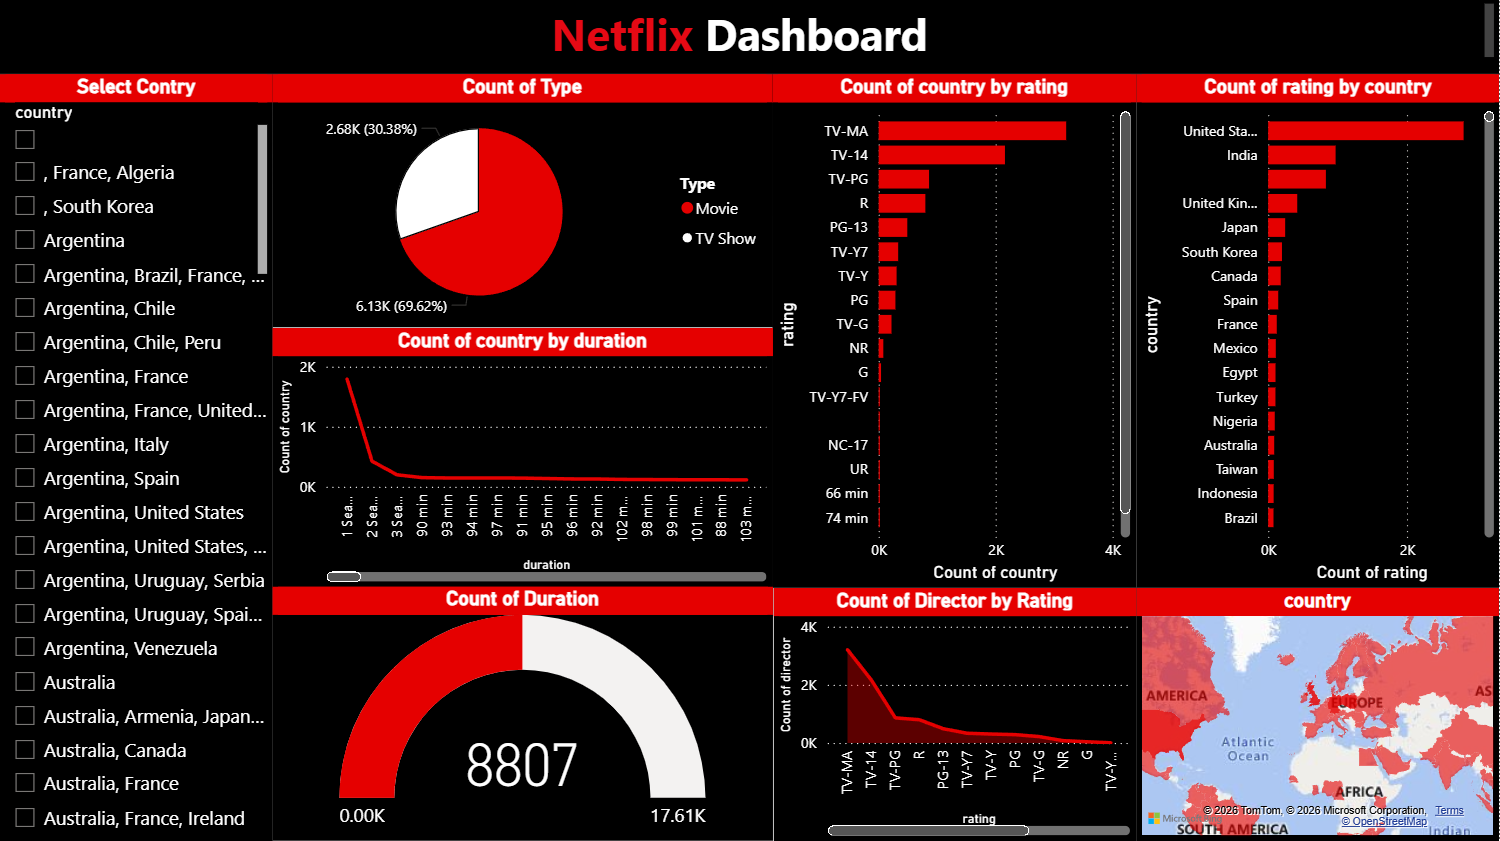

The page's visual inventory and layout, read from the dashboard file:
{"tool":"powerbi","page":{"name":"Page 1","canvas":[1280,720],"ordinal":0},"visuals":[{"type":"pieChart","title":"Count of Type ","fields":{"Category":["netflix_titles.type"],"Y":["CountNonNull(netflix_titles.show_id)"]},"box":[232.3,65.6,426.9,216.1],"z":0},{"type":"slicer","title":"Select Contry","fields":{"Values":["netflix_titles.country"]},"box":[0,65.1,232.6,655.1],"z":1},{"type":"textbox","box":[0,0,1280.2,65.1],"z":2},{"type":"clusteredBarChart","fields":{"Category":["netflix_titles.country"],"Y":["CountNonNull(netflix_titles.rating)"]},"box":[969.8,65.1,310.5,438.4],"z":3},{"type":"clusteredBarChart","fields":{"Y":["CountNonNull(netflix_titles.country)"],"Category":["netflix_titles.rating"]},"box":[659.3,65.1,310.5,438.4],"z":4},{"type":"lineChart","fields":{"Y":["CountNonNull(netflix_titles.country)"],"Category":["netflix_titles.duration"]},"box":[232.3,281.7,426.9,221.5],"z":5},{"type":"gauge","title":"Count of Duration","fields":{"Y":["CountNonNull(netflix_titles.duration)"]},"box":[233,503,427,217],"z":6},{"type":"areaChart","title":"Count of Director by Rating","fields":{"Category":["netflix_titles.rating"],"Y":["CountNonNull(netflix_titles.director)"]},"box":[660.5,503.5,309.3,216.3],"z":7},{"type":"filledMap","fields":{"Category":["netflix_titles.country"]},"box":[969.9,503.2,309.7,216.1],"z":8}]}

Visuals, with their boxes in screenshot pixels (x1, y1, x2, y2), scaled from the page's 1280x720 canvas onto the 1500x841 screenshot:
"Count of Type " pieChart: [272, 77, 772, 329]
"Select Contry" slicer: [0, 76, 273, 840]
textbox: [0, 0, 1499, 76]
clusteredBarChart - netflix_titles.country x CountNonNull(netflix_titles.rating): [1136, 76, 1499, 588]
clusteredBarChart - CountNonNull(netflix_titles.country) x netflix_titles.rating: [773, 76, 1136, 588]
lineChart - CountNonNull(netflix_titles.country) x netflix_titles.duration: [272, 329, 772, 588]
"Count of Duration" gauge: [273, 588, 773, 840]
"Count of Director by Rating" areaChart: [774, 588, 1136, 840]
filledMap - netflix_titles.country: [1137, 588, 1499, 840]
